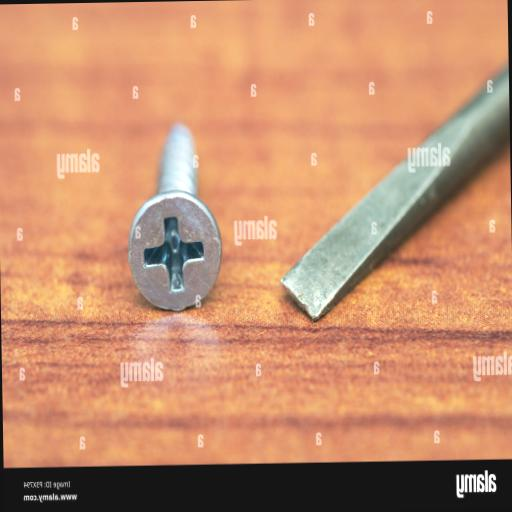Phillips: (126, 193, 222, 316)
